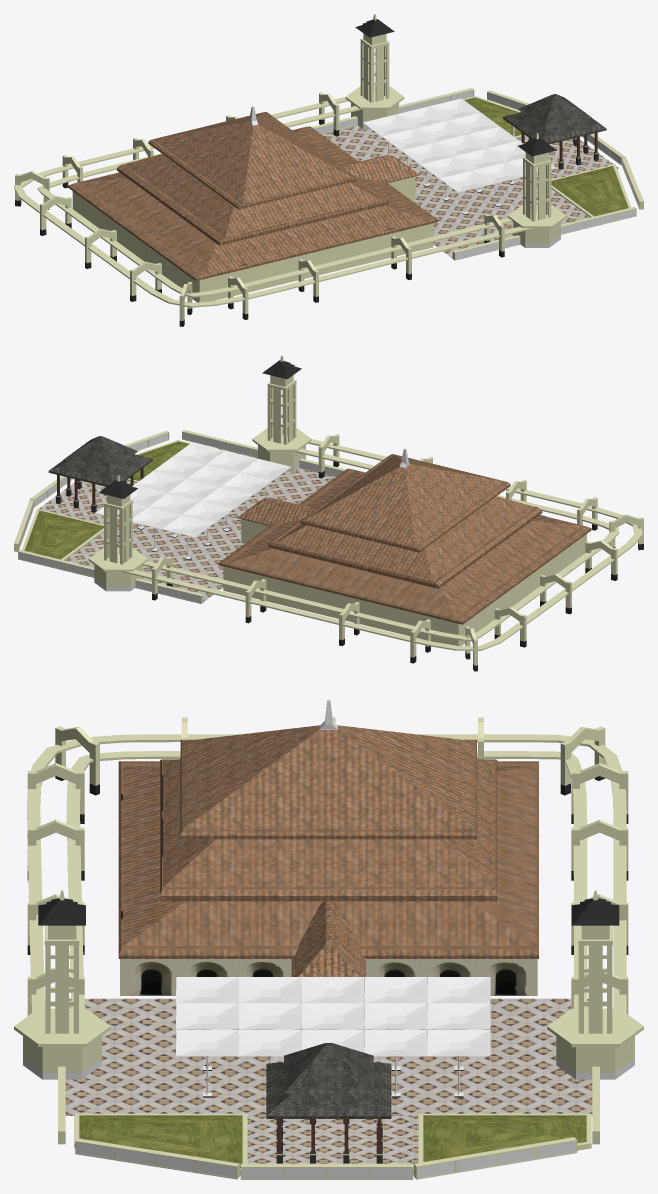
Rendered from masjid_agung_cimahi.gltf.
3 renders of one model, top to bottom at view 1: azimuth 30°, elevation 25°; view 2: azimuth 150°, elevation 25°; view 3: azimuth 270°, elevation 25°, orthographic. The views are drawn at different scales.
Visible parts, largest first — view 1: GedungUtama, JalurPenghias, Halaman, PenghiasPayung, Pagar_3; view 2: GedungUtama, JalurPenghias, Halaman, PenghiasPayung, Pagar_3; view 3: GedungUtama, Halaman, JalurPenghias, PenghiasPayung, Pagar_3.
Boxes of the visible parts, bbox=[...] form: GedungUtama: bbox=[68, 106, 437, 302]; JalurPenghias: bbox=[14, 14, 566, 326]; Halaman: bbox=[322, 94, 631, 258]; PenghiasPayung: bbox=[363, 98, 556, 214]; Pagar_3: bbox=[311, 88, 643, 260]; GedungUtama: bbox=[218, 448, 591, 645]; JalurPenghias: bbox=[88, 355, 643, 671]; Halaman: bbox=[22, 436, 335, 601]; PenghiasPayung: bbox=[96, 442, 291, 559]; Pagar_3: bbox=[14, 430, 345, 603]; GedungUtama: bbox=[118, 700, 538, 1002]; Halaman: bbox=[65, 998, 592, 1175]; JalurPenghias: bbox=[14, 717, 643, 1079]; PenghiasPayung: bbox=[176, 977, 490, 1097]; Pagar_3: bbox=[58, 1066, 599, 1179].
Bounding box in the file's own units: 69.22 × 16.11 × 44.88.
11 materials, 2 textured.
